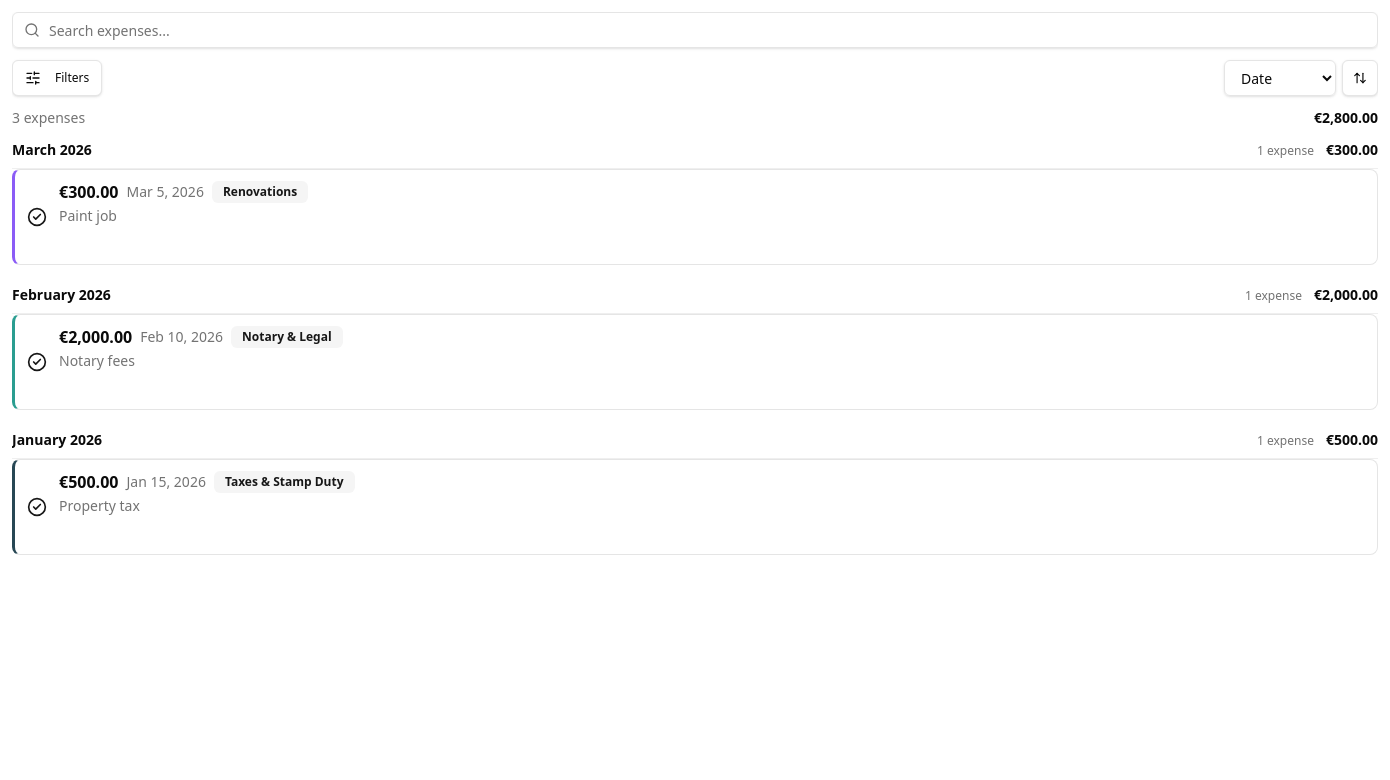
ExpenseList filtering and search › shows empty state when search matches nothing
Step 1. Type "zzzznonexistent" into the field with placeholder "Search expenses..." → (695, 30), box 12,12 -> 1378,48
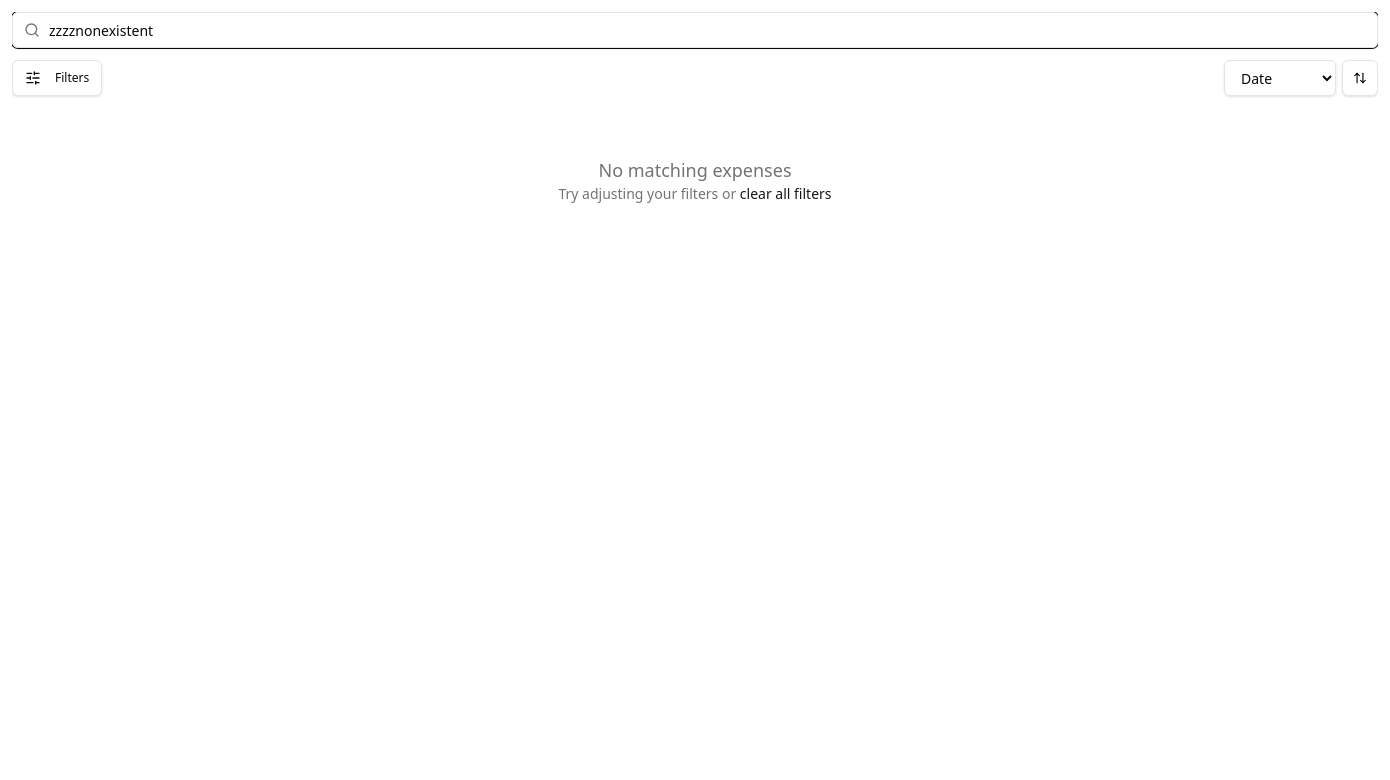
Expected: the text "No matching expenses" is shown, 598,158 -> 792,182
